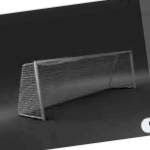goals: (17, 49, 138, 121)
